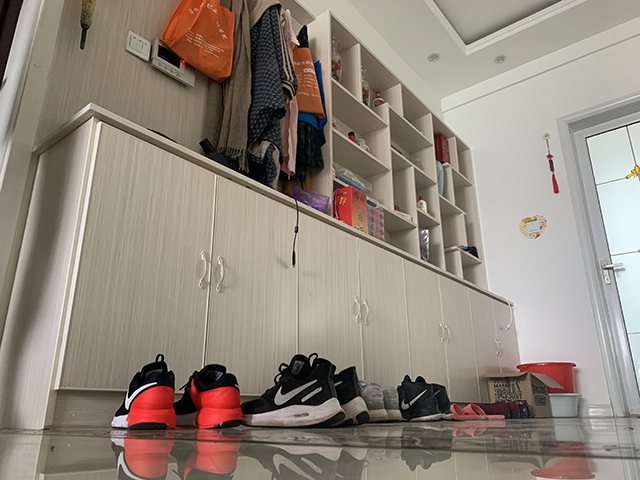cabinet: (13, 107, 506, 430)
slippers: (460, 401, 507, 421)
